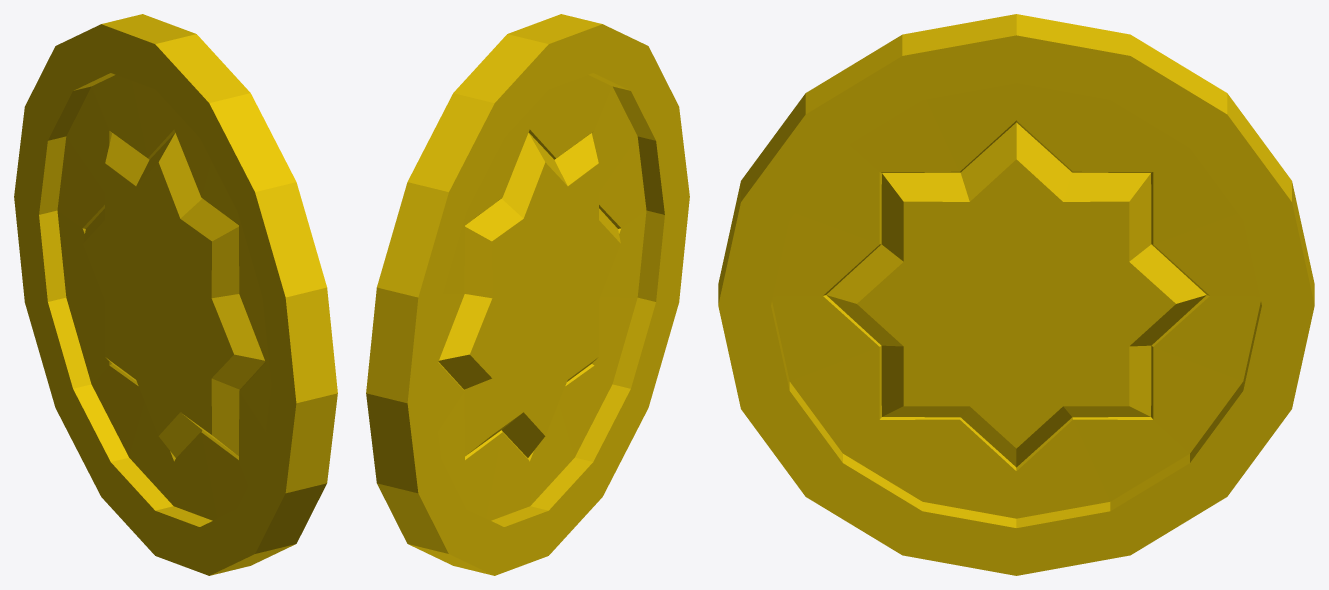
File: Old_coin.fbx
The picture shows the model from 3 angles, left to right: view 1: azimuth 30°, elevation 25°; view 2: azimuth 150°, elevation 25°; view 3: azimuth 270°, elevation 25°; orthographic projection. The views are drawn at different scales.
Visible parts, largest first — view 1: Circle; view 2: Circle; view 3: Circle.
Boxes of the visible parts, box(x1,y1,x2,y2) form: Circle: box(14, 14, 337, 575); Circle: box(366, 14, 689, 575); Circle: box(718, 14, 1314, 575).
Bounding box in the file's own units: 16.98 × 200 × 200.
